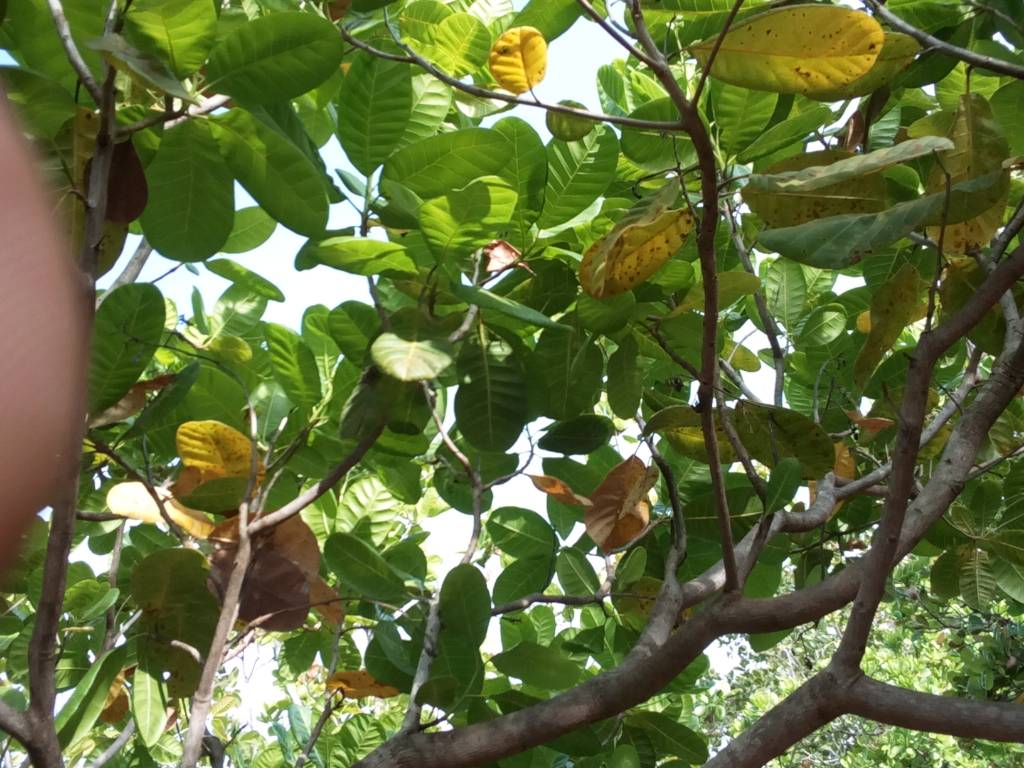Anthracnose: (685, 2, 887, 96), (739, 151, 907, 240), (928, 90, 1007, 258), (577, 201, 689, 301), (731, 401, 837, 483), (177, 419, 263, 501), (628, 577, 661, 626)
